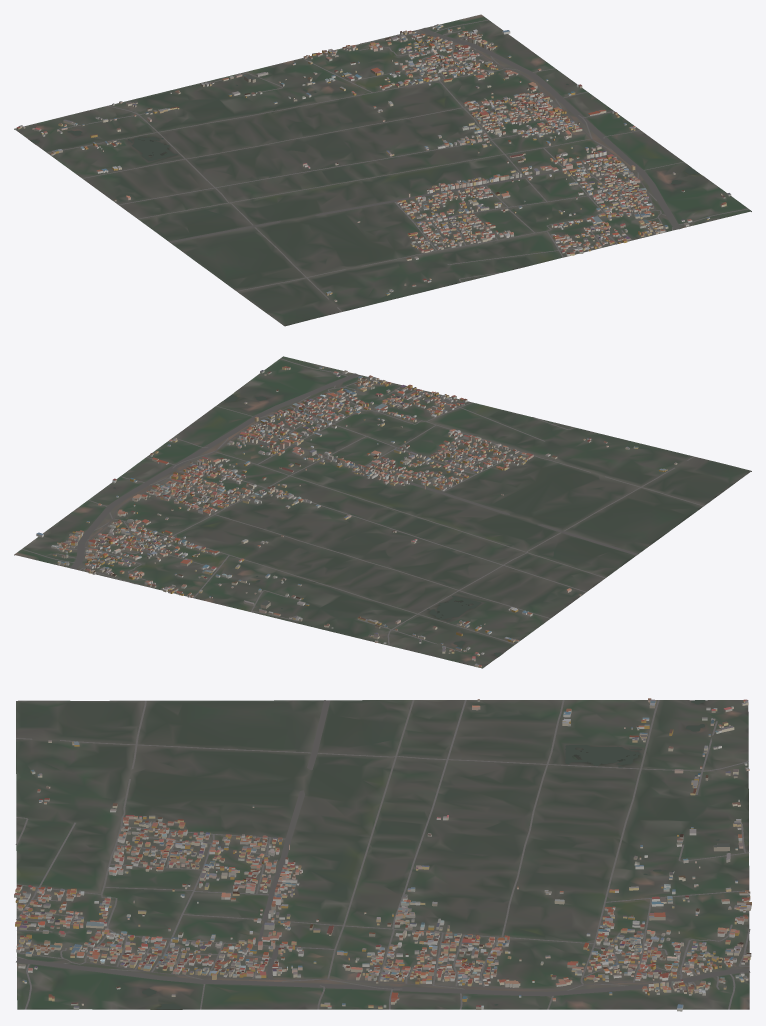
3 renders of one model, top to bottom at view 1: azimuth 30°, elevation 25°; view 2: azimuth 150°, elevation 25°; view 3: azimuth 270°, elevation 25°, orthographic. The views are drawn at different scales.
Parts seen in each view (by area): view 1: ground, buildings, roads, water; view 2: ground, buildings, roads, water; view 3: ground, buildings, roads, water.
Boxes of the visible parts, <box> form: ground: <box>14,14,751,326</box>; buildings: <box>16,24,731,301</box>; roads: <box>47,20,748,311</box>; water: <box>30,83,698,184</box>; ground: <box>14,356,751,668</box>; buildings: <box>36,366,677,667</box>; roads: <box>22,358,704,652</box>; water: <box>113,394,501,656</box>; ground: <box>16,700,749,1009</box>; buildings: <box>14,698,751,1011</box>; roads: <box>15,700,750,1009</box>; water: <box>142,700,719,1009</box>.
Size of the model in its own units: 1410 by 18.53 by 1412.
